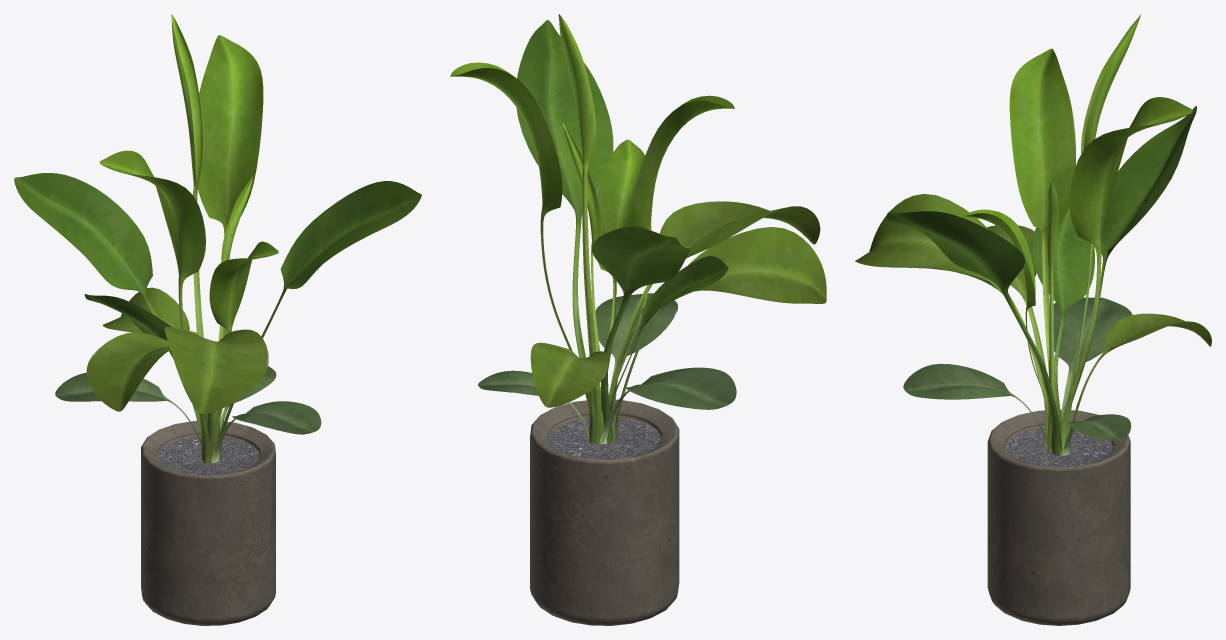
The model's file is rhyzome.glb.
The picture shows the model from 3 angles, left to right: view 1: azimuth 30°, elevation 25°; view 2: azimuth 150°, elevation 25°; view 3: azimuth 270°, elevation 25°; orthographic projection. The views are drawn at different scales.
Parts seen in each view (by area): view 1: rhyzome; view 2: rhyzome; view 3: rhyzome.
Part boxes in pixels (left/top/right/bottom): rhyzome: left=14, top=14, right=421, bottom=625; rhyzome: left=450, top=14, right=826, bottom=625; rhyzome: left=855, top=15, right=1211, bottom=625.
Bounding box in the file's own units: 0.9757 × 1.81 × 0.9983.
2 materials, 2 textured.
